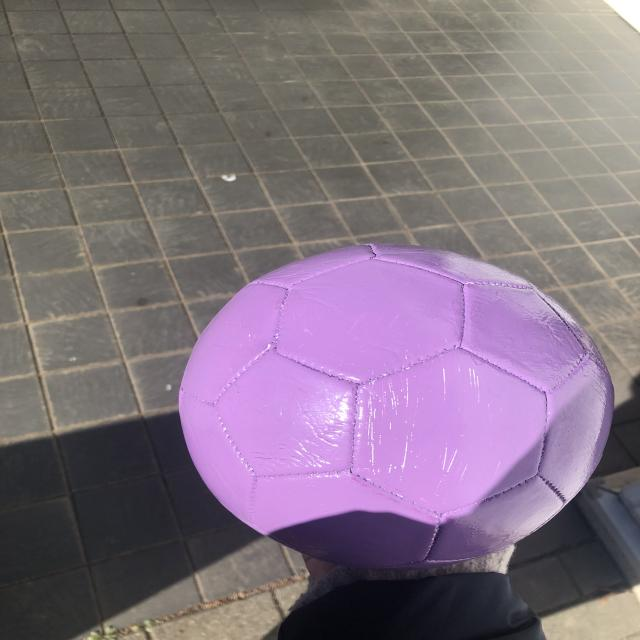purple_ball: (168, 246, 623, 566)
